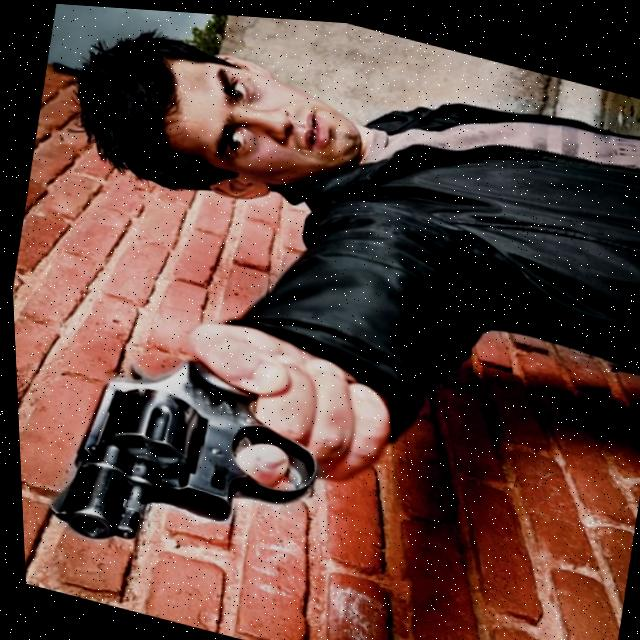pistol: (34, 329, 333, 590)
